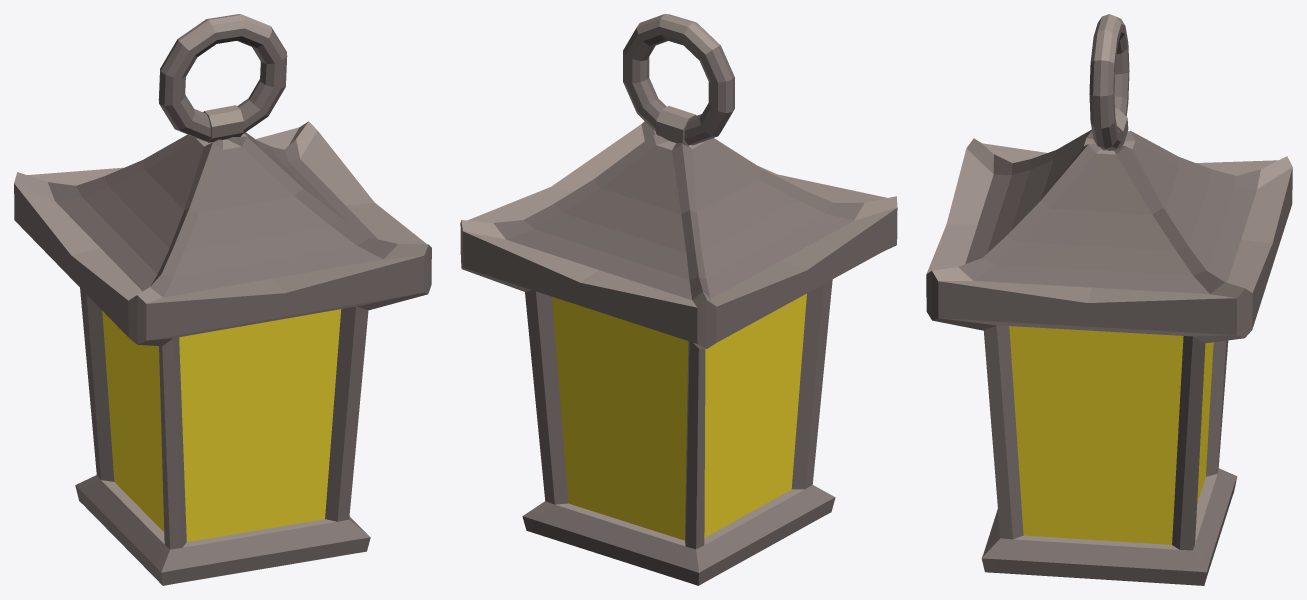
File: Lanterne.01.fbx
3 renders of one model, left to right at view 1: azimuth 30°, elevation 25°; view 2: azimuth 150°, elevation 25°; view 3: azimuth 270°, elevation 25°, orthographic.
Visible parts, largest first — view 1: Lanterne.01; view 2: Lanterne.01; view 3: Lanterne.01.
Part boxes in pixels (left/top/right/bottom): Lanterne.01: left=14, top=14, right=431, bottom=585; Lanterne.01: left=460, top=14, right=897, bottom=585; Lanterne.01: left=926, top=14, right=1292, bottom=585.
Bounding box in the file's own units: 130 × 200 × 130.
